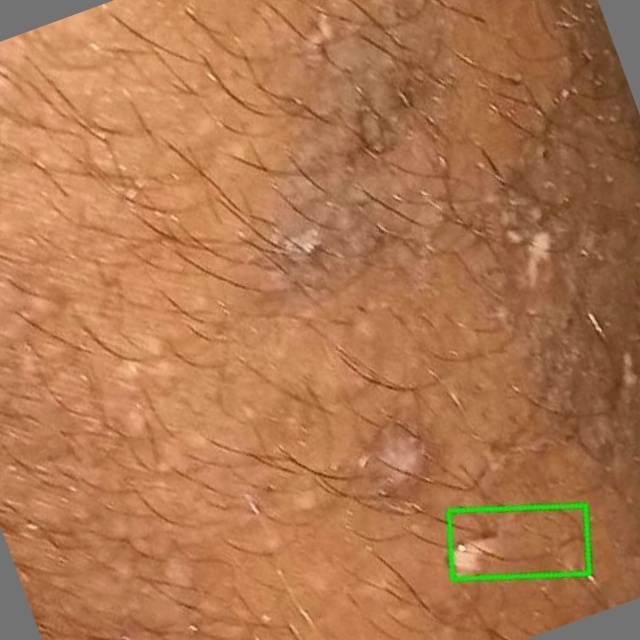Eczema: (449, 506, 588, 580)
